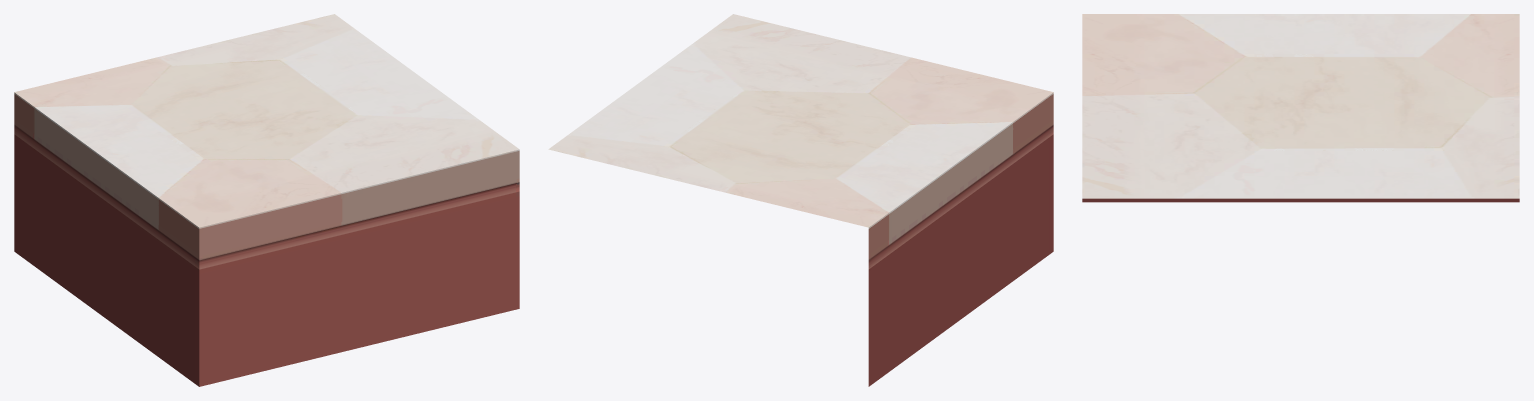
The model's file is my_sunshineresort_01_tile.glb.
The picture shows the model from 3 angles, left to right: view 1: azimuth 30°, elevation 25°; view 2: azimuth 150°, elevation 25°; view 3: azimuth 270°, elevation 25°; orthographic projection. The views are drawn at different scales.
Parts seen in each view (by area): view 1: my_sunshineresort_01_tile; view 2: my_sunshineresort_01_tile; view 3: my_sunshineresort_01_tile.
Boxes of the visible parts, <box> form: my_sunshineresort_01_tile: <box>14,14,519,386</box>; my_sunshineresort_01_tile: <box>548,14,1053,386</box>; my_sunshineresort_01_tile: <box>1082,14,1519,202</box>.
Bounding box in the file's own units: 0.006 × 0.00285 × 0.006.
Materials: 1 (1 with a texture image).
